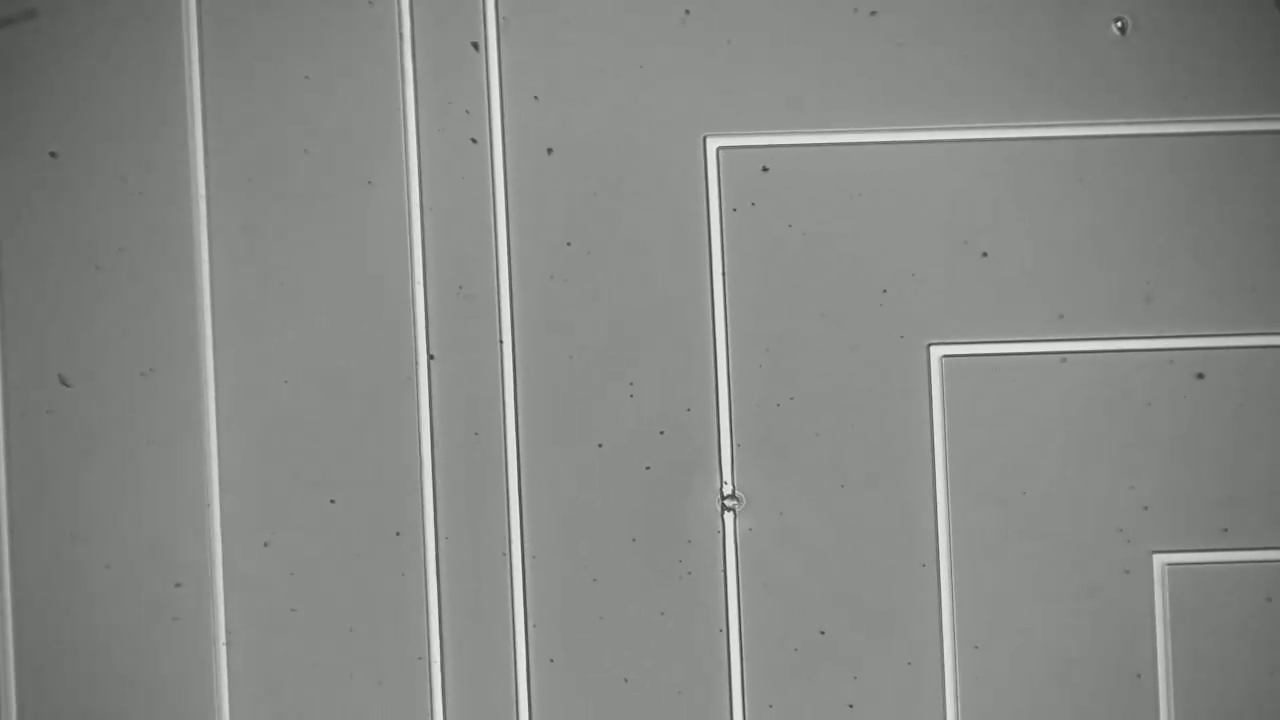stains_enbedded: (714, 471, 757, 526)
